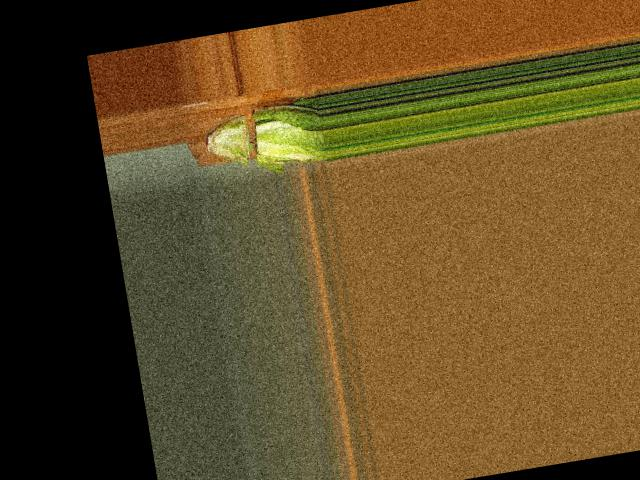lettuce: (202, 91, 326, 182)
